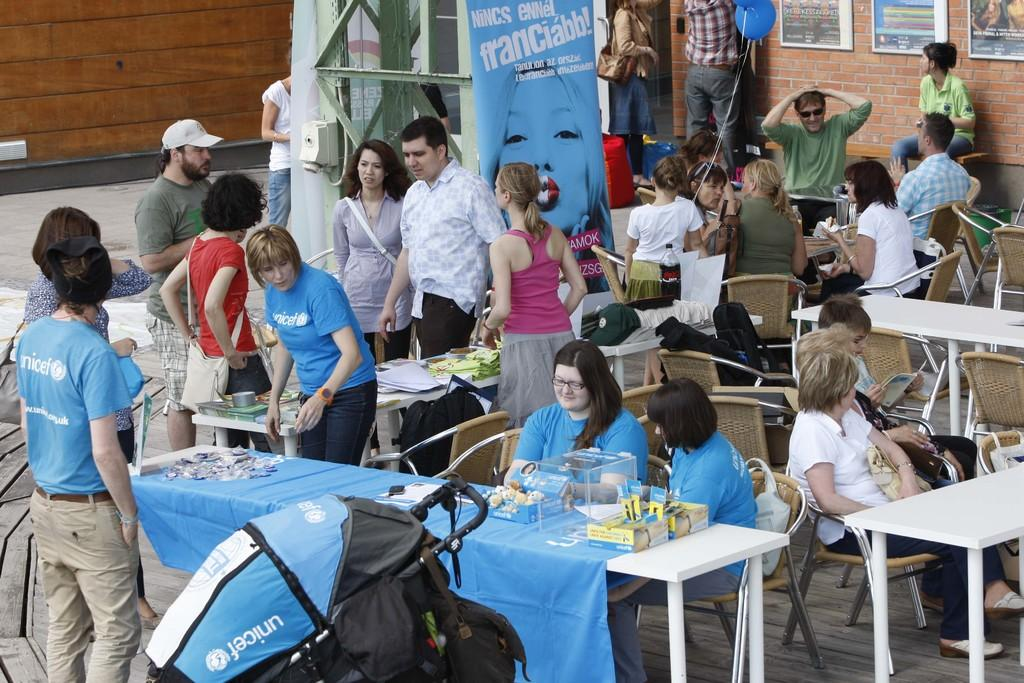Luggage-and-bags: (95, 479, 516, 671), (178, 241, 244, 411), (645, 313, 745, 391), (395, 388, 477, 482), (346, 197, 399, 263)
